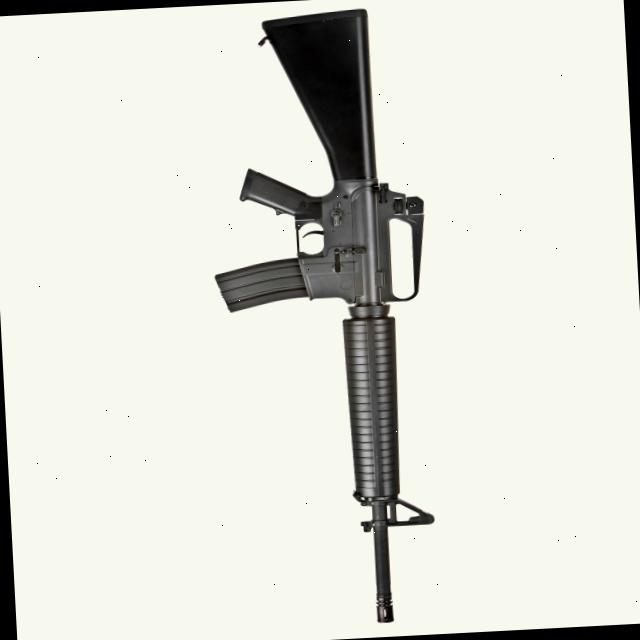Automaticrifle: (202, 13, 438, 638)
